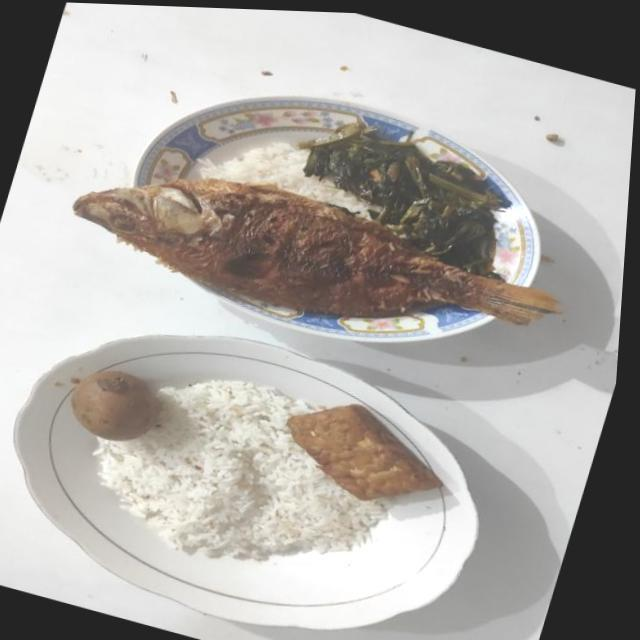ikan_mujair: (72, 178, 560, 324)
nasi_putih: (95, 380, 387, 562), (200, 142, 369, 218)
tempe_goreng: (286, 404, 442, 500)
tumis_kangkung: (302, 122, 509, 278)
